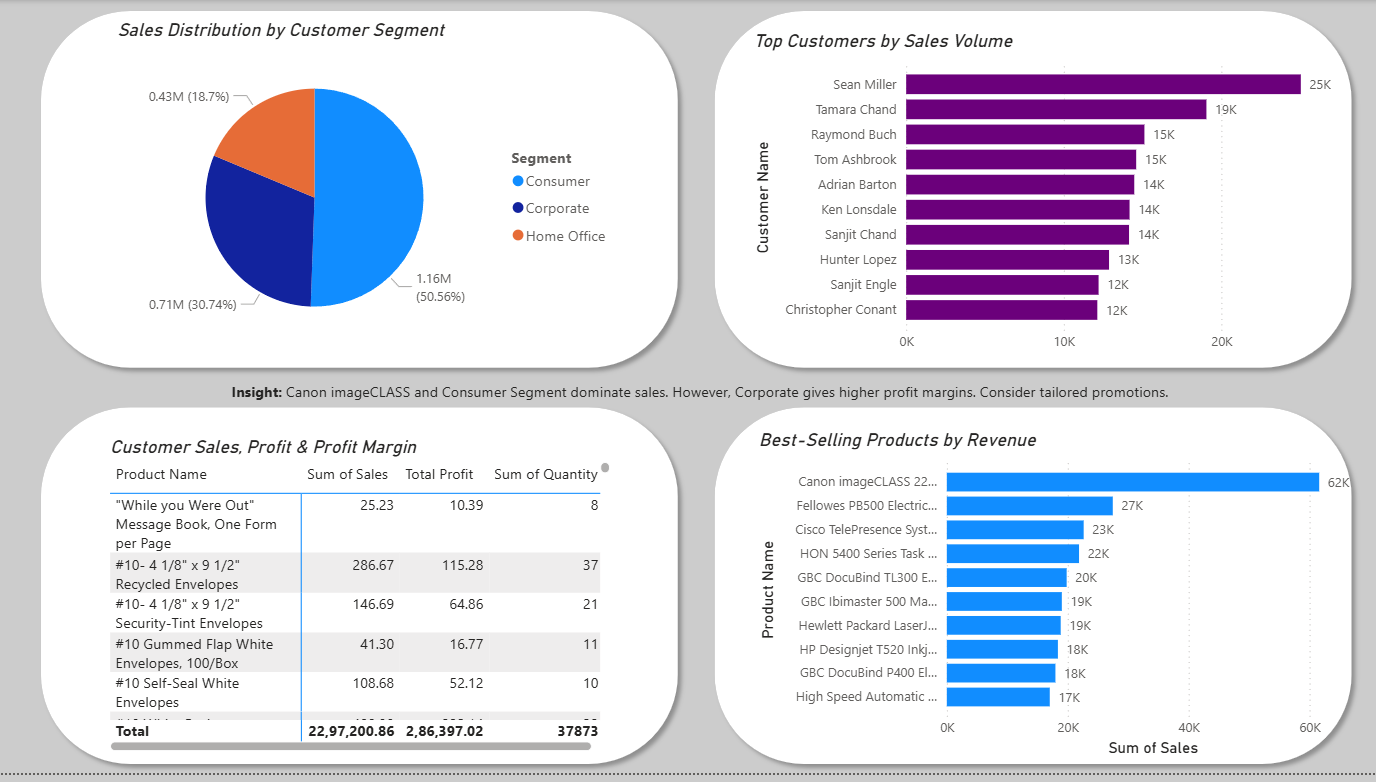

The page's visual inventory and layout, read from the dashboard file:
{"tool":"powerbi","page":{"name":"Customer & Product Insights","canvas":[1280,720],"ordinal":1},"visuals":[{"type":"shape","box":[655.8,369.8,610.5,350],"z":0},{"type":"shape","box":[29.1,369.8,610.5,350],"z":500},{"type":"shape","box":[655.8,1.2,610.5,350],"z":1000},{"type":"shape","box":[29.1,1.2,610.5,350],"z":1500},{"type":"barChart","title":"Top Customers by Sales Volume","fields":{"Category":["Cleaned_Superstore_Data.Customer Name"],"Y":["Cleaned_Superstore_Data.Sales"]},"box":[701.2,27.9,565.1,303.5],"z":2000},{"type":"barChart","title":"Best-Selling Products by Revenue","fields":{"Category":["Cleaned_Superstore_Data.Product Name"],"Y":["Cleaned_Superstore_Data.Sales"]},"box":[701.2,398.8,579.1,310.5],"z":3000},{"type":"pieChart","title":"Sales Distribution by Customer Segment","fields":{"Y":["Cleaned_Superstore_Data.Sales"],"Category":["Cleaned_Superstore_Data.Segment"]},"box":[104.7,17.4,473.3,314],"z":4000},{"type":"pivotTable","title":"Customer Sales, Profit & Profit Margin","fields":{"Rows":["Cleaned_Superstore_Data.Product Name"],"Values":["Cleaned_Superstore_Data.Sales","Cleaned_Superstore_Data.Total Profit","Cleaned_Superstore_Data.Quantity"]},"box":[97.7,405.8,474.4,297.7],"z":4001},{"type":"textbox","box":[210.5,350,890.7,39.5],"z":4002}]}

Visuals, with their boxes in screenshot pixels (x1, y1, x2, y2), scaled from the page's 1280x720 canvas onto the 1376x782 screenshot:
shape: (705, 402, 1361, 781)
shape: (31, 402, 688, 781)
shape: (705, 1, 1361, 381)
shape: (31, 1, 688, 381)
"Top Customers by Sales Volume" barChart: (754, 30, 1361, 360)
"Best-Selling Products by Revenue" barChart: (754, 433, 1375, 770)
"Sales Distribution by Customer Segment" pieChart: (113, 19, 621, 360)
"Customer Sales, Profit & Profit Margin" pivotTable: (105, 441, 615, 764)
textbox: (226, 380, 1184, 423)
